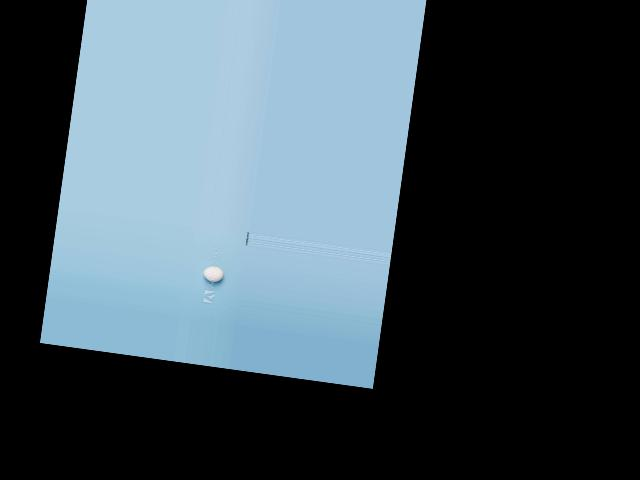egg: (203, 265, 224, 282)
